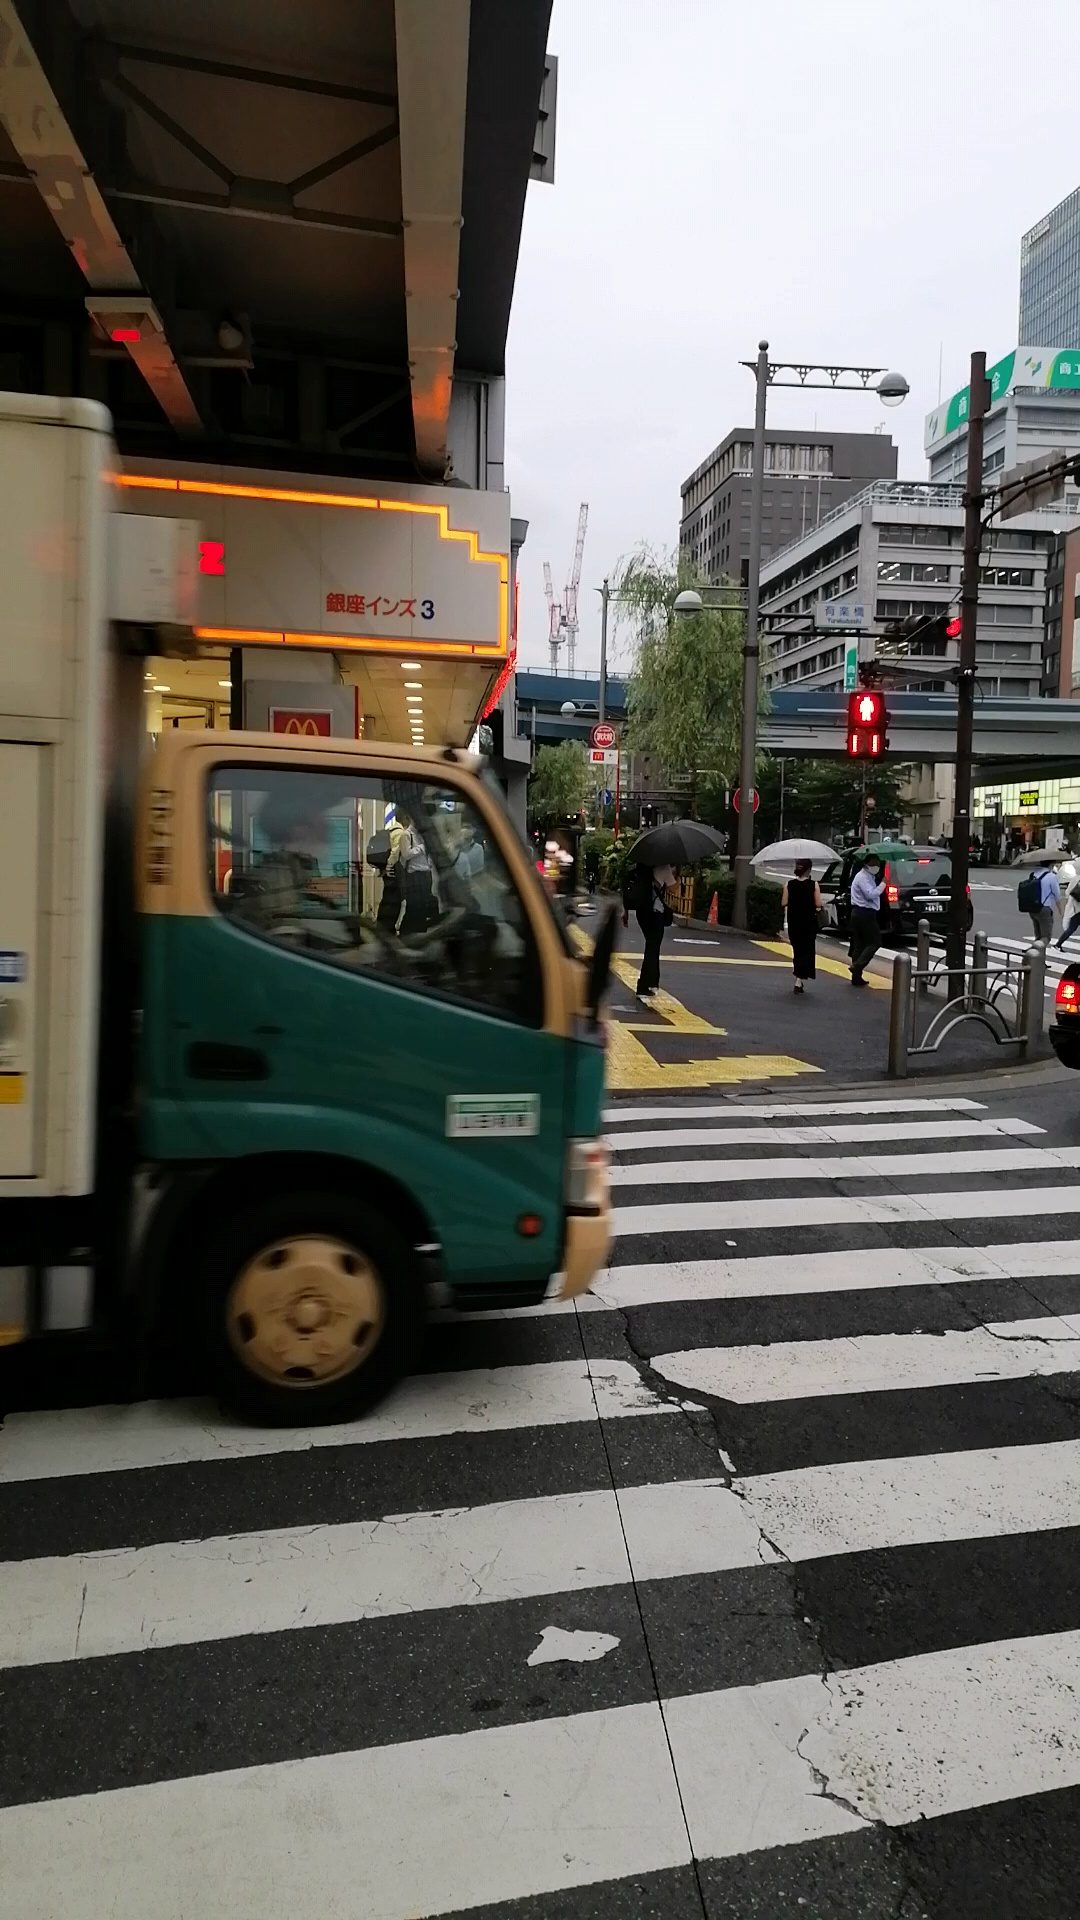red: (847, 686, 885, 760)
